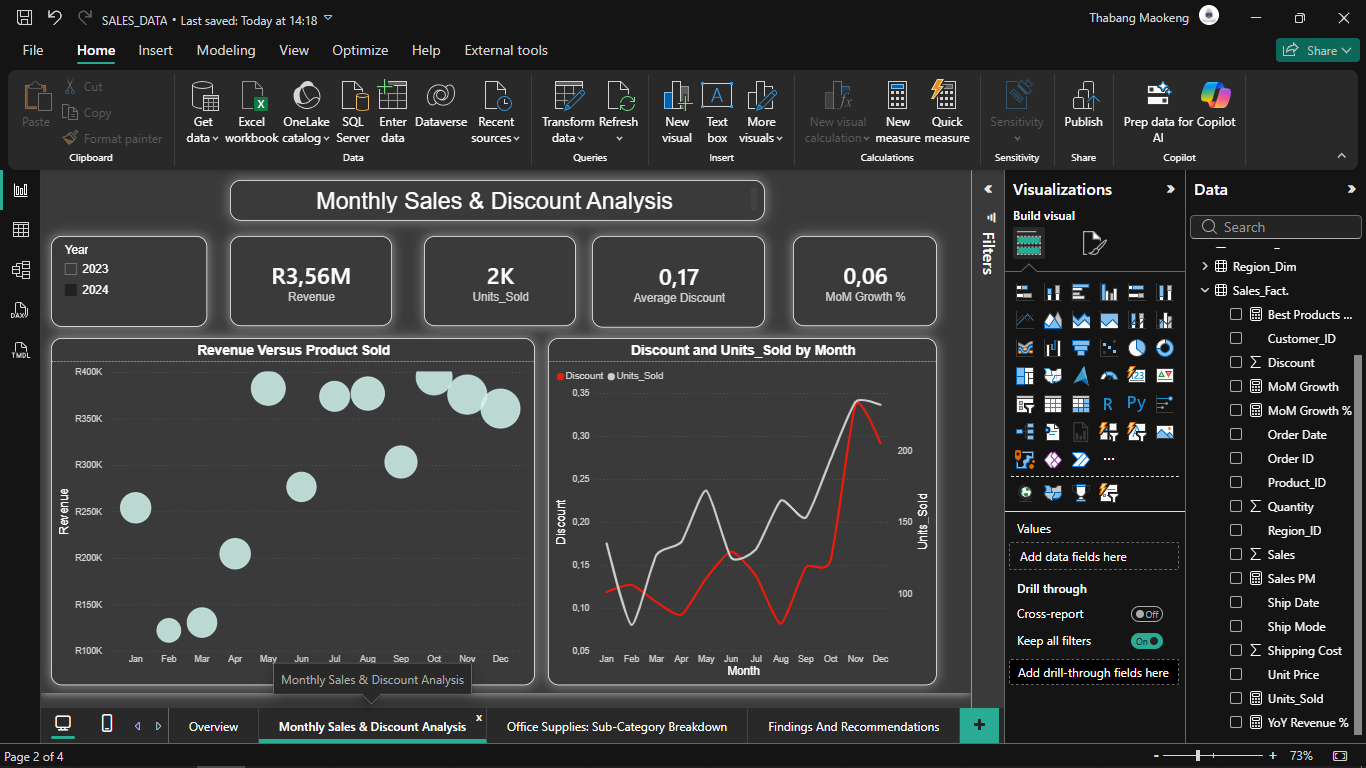

The page's visual inventory and layout, read from the dashboard file:
{"tool":"powerbi","page":{"name":"Monthly Sales & Discount Analysis","canvas":[1280,720],"ordinal":1},"visuals":[{"type":"slicer","fields":{"Values":["Date_Table.Year"]},"box":[13.8,90.8,214.7,125.2],"z":0},{"type":"cardVisual","fields":{"Data":["Customer_Dim.Total_Revenue"]},"box":[260.1,90.8,223,123.9],"z":1000},{"type":"scatterChart","title":"Revenue Versus Product Sold","fields":{"X":["Date_Table.Month_Name"],"Size":["Sum(Sales_Fact..Quantity)"],"Y":["Customer_Dim.Total_Revenue"]},"box":[13.8,231.2,666.2,477.6],"z":2000},{"type":"cardVisual","title":"Avarage discount","fields":{"Data":["Avg(Sales_Fact..Discount)"]},"box":[758.8,91,238.2,125.8],"z":3000},{"type":"cardVisual","fields":{"Data":["Sales_Fact..MoM Growth %"]},"box":[1017.1,90.8,247.7,123.9],"z":4000},{"type":"cardVisual","fields":{"Data":["Sales_Fact..Units_Sold"]},"box":[527.1,90.8,209.2,123.9],"z":5000},{"type":"lineChart","title":"Discount and Units Sold by Month","fields":{"Y":["Avg(Sales_Fact..Discount)"],"Category":["Date_Table.Month_Name"],"Y2":["Sales_Fact..Units_Sold"]},"box":[697.8,231.2,567.1,477.6],"z":6000},{"type":"textbox","box":[260.1,13.8,736.3,56.4],"z":7000}]}

Visuals, with their boxes on the page's 1280x720 design canvas (x1, y1, x2, y2). These are canvas units, not pixel positions in the 1366x768 screenshot, which may show the page scaled, cropped or inside an application window:
slicer - Date_Table.Year: pyautogui.locateOnScreen(14, 91, 228, 216)
cardVisual - Customer_Dim.Total_Revenue: pyautogui.locateOnScreen(260, 91, 483, 215)
"Revenue Versus Product Sold" scatterChart: pyautogui.locateOnScreen(14, 231, 680, 709)
"Avarage discount" cardVisual: pyautogui.locateOnScreen(759, 91, 997, 217)
cardVisual - Sales_Fact..MoM Growth %: pyautogui.locateOnScreen(1017, 91, 1265, 215)
cardVisual - Sales_Fact..Units_Sold: pyautogui.locateOnScreen(527, 91, 736, 215)
"Discount and Units Sold by Month" lineChart: pyautogui.locateOnScreen(698, 231, 1265, 709)
textbox: pyautogui.locateOnScreen(260, 14, 996, 70)
